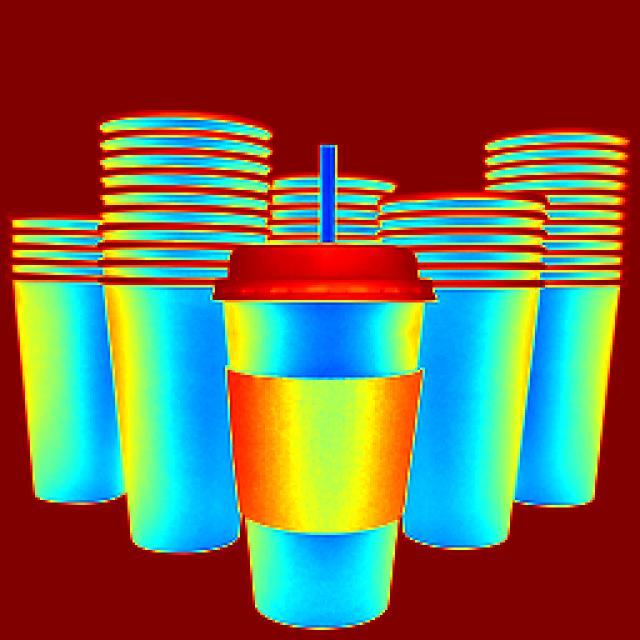Paper Cups: (234, 229, 412, 624)
